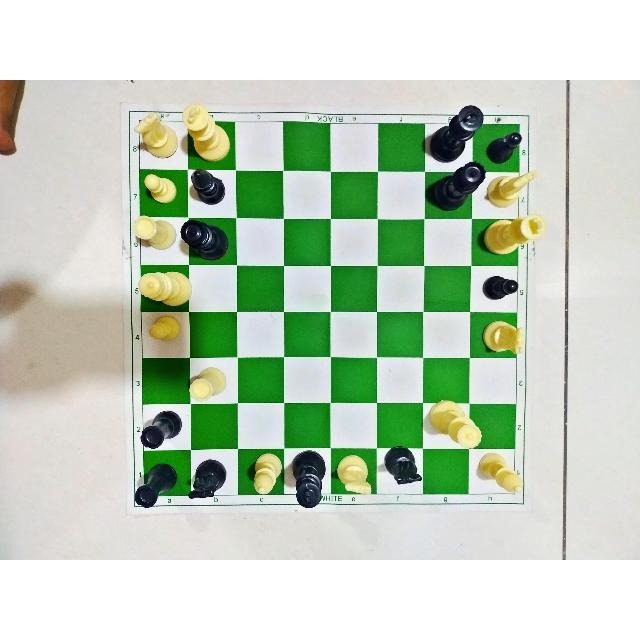black-bishop: (189, 169, 221, 205)
black-king: (427, 102, 481, 160), (289, 451, 323, 511)
black-knight: (383, 442, 423, 492), (186, 459, 225, 505)
black-pawn: (488, 128, 522, 164), (483, 275, 522, 300)
black-queen: (436, 159, 488, 211), (179, 214, 224, 263)
black-rook: (133, 460, 172, 510), (137, 407, 181, 451)
white-bishop: (478, 448, 525, 500), (252, 453, 284, 500)
white-king: (483, 210, 547, 257), (180, 102, 226, 163)
white-knight: (488, 166, 538, 210), (134, 114, 176, 162), (335, 455, 375, 500), (481, 319, 525, 359)
white-pawn: (143, 170, 175, 206), (145, 318, 181, 344)
white-queen: (426, 400, 481, 452), (138, 271, 190, 308)
white-rook: (131, 213, 171, 254), (188, 367, 222, 403)
